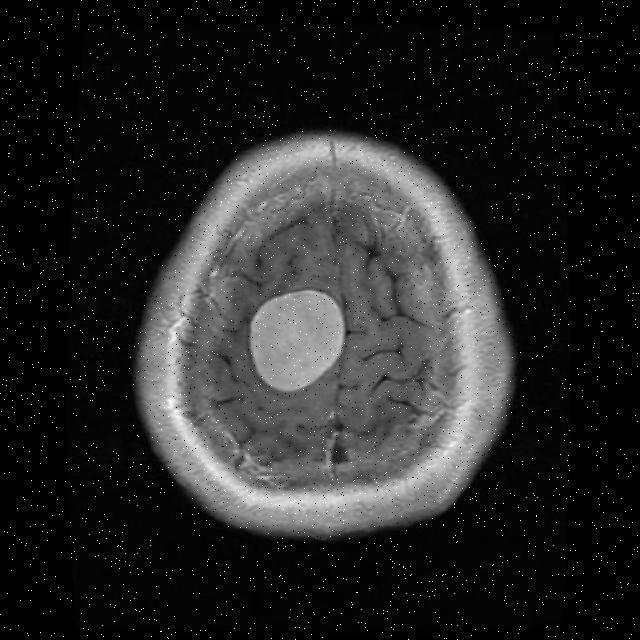Meningioma: (249, 290, 344, 391)
